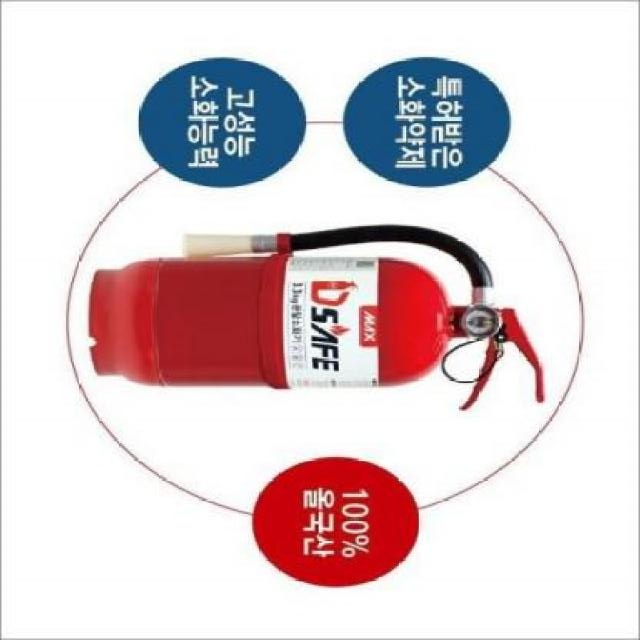fire extinguisher: (87, 223, 547, 411)
